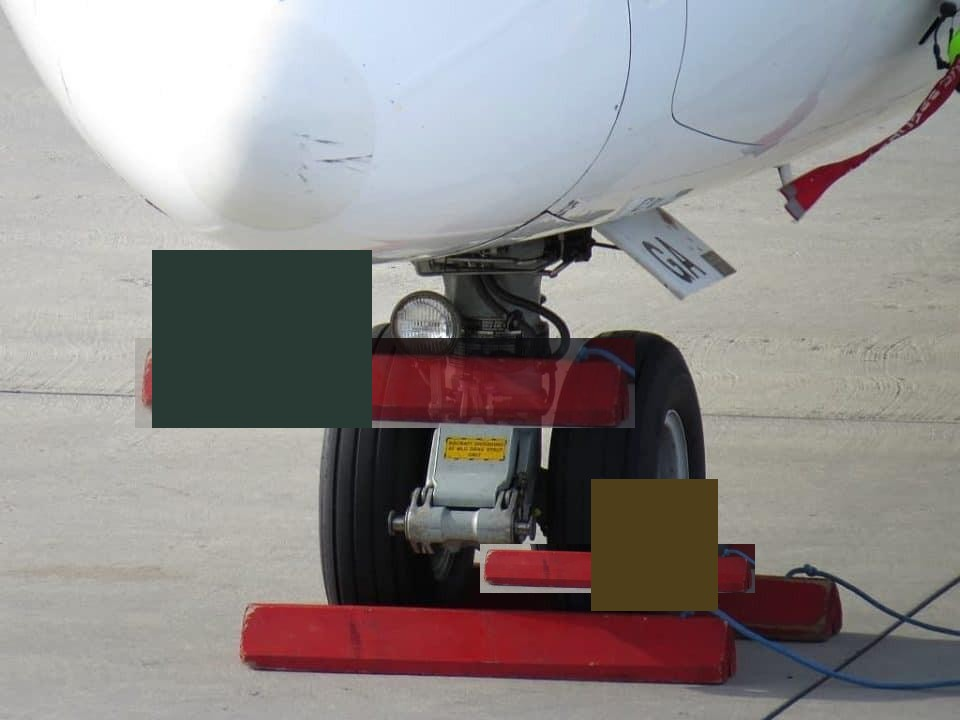chock: (234, 593, 742, 685), (135, 338, 635, 428), (430, 555, 845, 642), (480, 544, 755, 593)
wheel: (545, 328, 706, 618), (318, 318, 466, 608)
